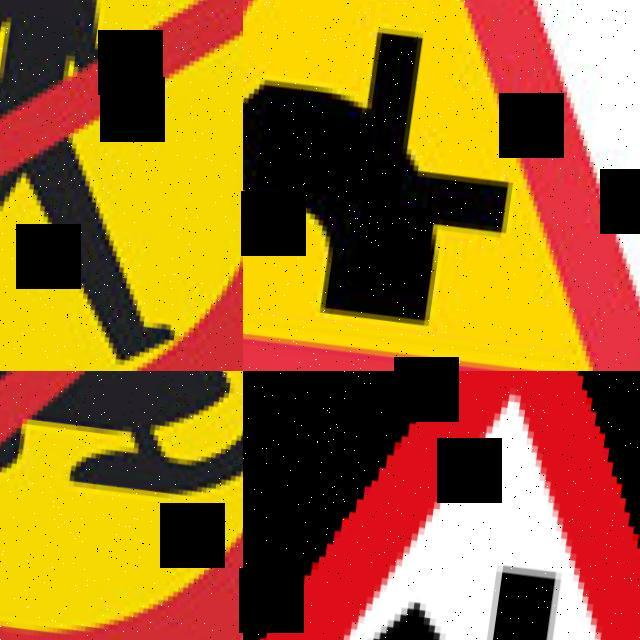166: (243, 0, 640, 371)
31: (0, 0, 243, 371)
47: (0, 371, 243, 640)
No snowmobiles: (0, 371, 243, 640)
Oblique side road junction: (243, 371, 640, 640)
